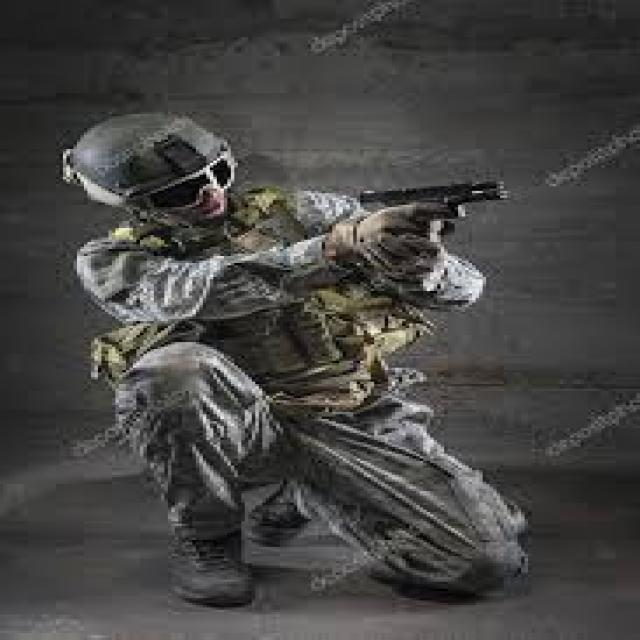soldier: (16, 92, 547, 629)
